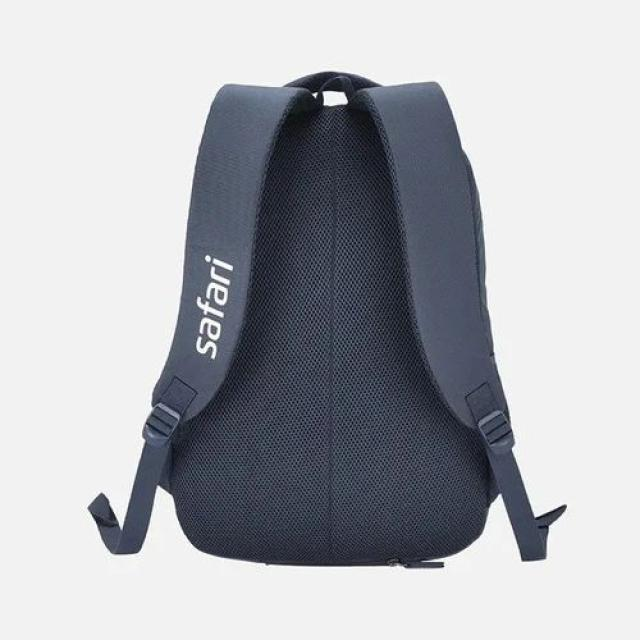backpack: (88, 70, 567, 571)
